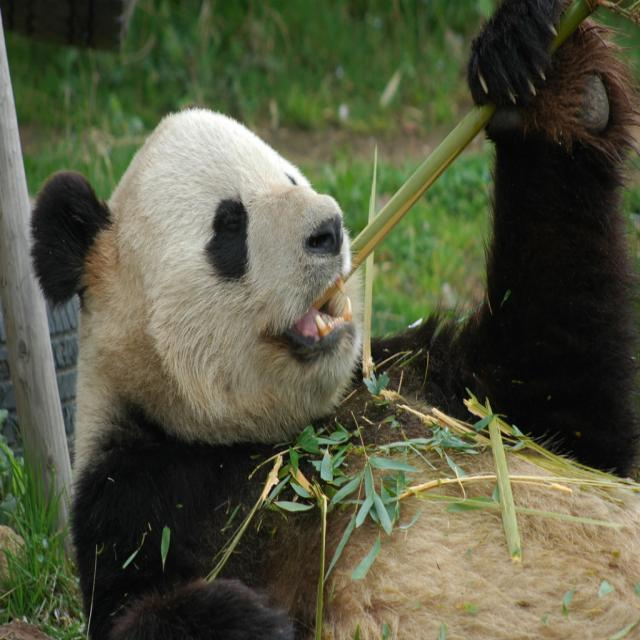panda: (31, 1, 640, 638)
